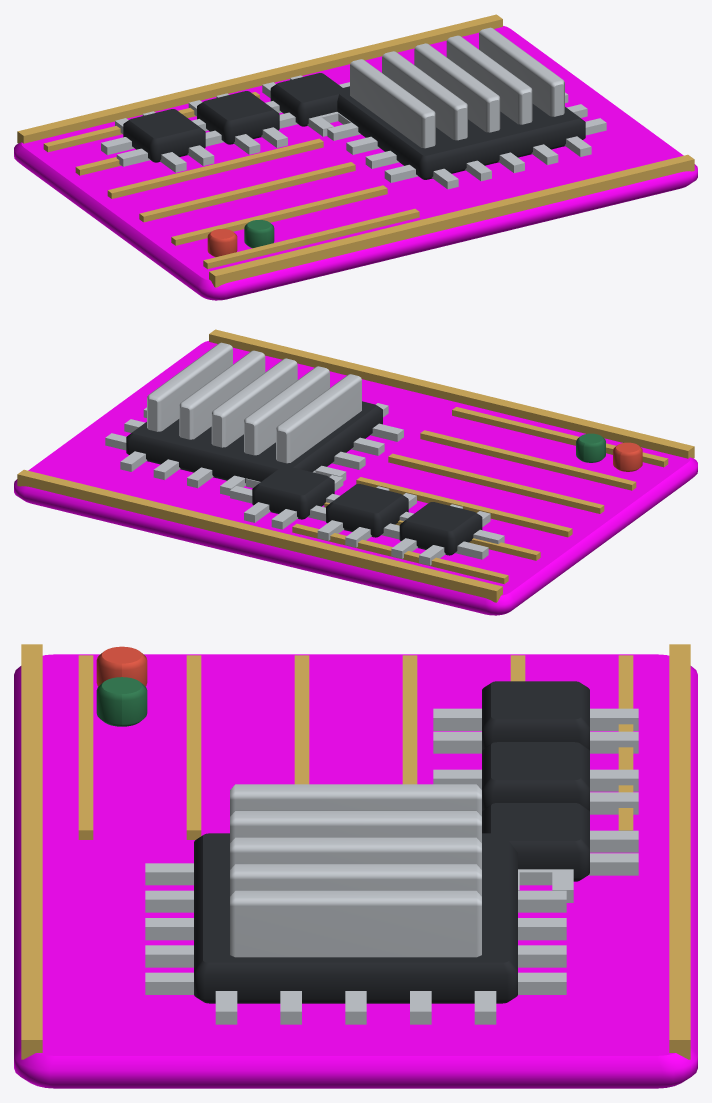
The model's file is objet_circuit_avance.glb.
3 views of the same model, one above another, from view 1: azimuth 30°, elevation 25°; view 2: azimuth 150°, elevation 25°; view 3: azimuth 270°, elevation 25° (orthographic). The views are drawn at different scales.
Visible parts, largest first — view 1: circuit_teinte.004, circuit_piste_or.004, circuit_composant_clair.004, circuit_composant.004, circuit_pcb_vert.002, circuit_led_rouge.002; view 2: circuit_teinte.004, circuit_piste_or.004, circuit_composant_clair.004, circuit_composant.004, circuit_pcb_vert.002, circuit_led_rouge.002; view 3: circuit_teinte.004, circuit_composant_clair.004, circuit_composant.004, circuit_piste_or.004, circuit_pcb_vert.002, circuit_led_rouge.002.
Boxes of the visible parts, <box> form: circuit_teinte.004: <box>14,26,697,300</box>; circuit_piste_or.004: <box>17,14,694,287</box>; circuit_composant_clair.004: <box>101,27,606,189</box>; circuit_composant.004: <box>123,73,585,179</box>; circuit_pcb_vert.002: <box>244,220,274,248</box>; circuit_led_rouge.002: <box>207,229,237,257</box>; circuit_teinte.004: <box>14,341,697,615</box>; circuit_piste_or.004: <box>17,329,694,602</box>; circuit_composant_clair.004: <box>105,342,504,565</box>; circuit_composant.004: <box>126,401,482,555</box>; circuit_pcb_vert.002: <box>576,433,605,462</box>; circuit_led_rouge.002: <box>613,442,642,471</box>; circuit_teinte.004: <box>14,654,697,1088</box>; circuit_composant_clair.004: <box>145,708,638,1024</box>; circuit_composant.004: <box>194,681,589,1003</box>; circuit_piste_or.004: <box>21,644,690,1059</box>; circuit_pcb_vert.002: <box>96,677,147,726</box>; circuit_led_rouge.002: <box>96,646,147,686</box>.
Size of the model in its own units: 0.27 by 0.04 by 0.19.
